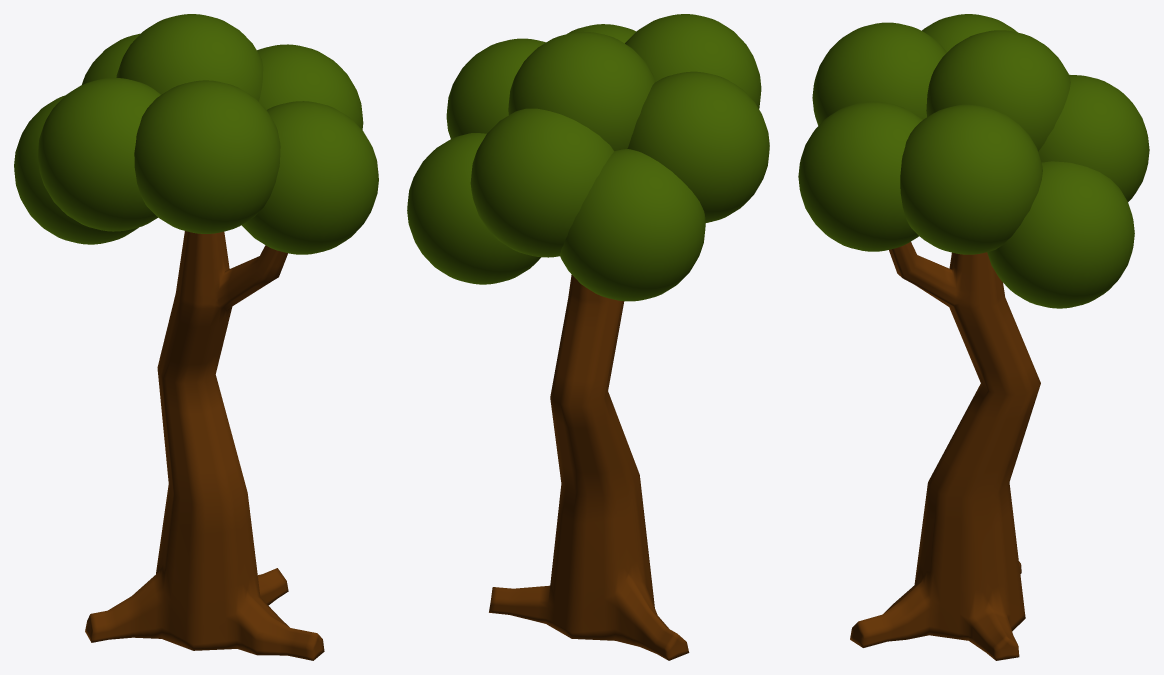
Rendered from arvorelp1.fbx.
3 views of the same model, side by side, from view 1: azimuth 30°, elevation 25°; view 2: azimuth 150°, elevation 25°; view 3: azimuth 270°, elevation 25° (orthographic). The views are drawn at different scales.
Visible parts, largest first — view 1: Cube; view 2: Cube; view 3: Cube.
Boxes of the visible parts, box(x1,y1,x2,y2) form: Cube: box(14, 14, 378, 660); Cube: box(407, 14, 769, 660); Cube: box(798, 14, 1149, 660).
Size of the model in its own units: 458 by 853 by 467.
